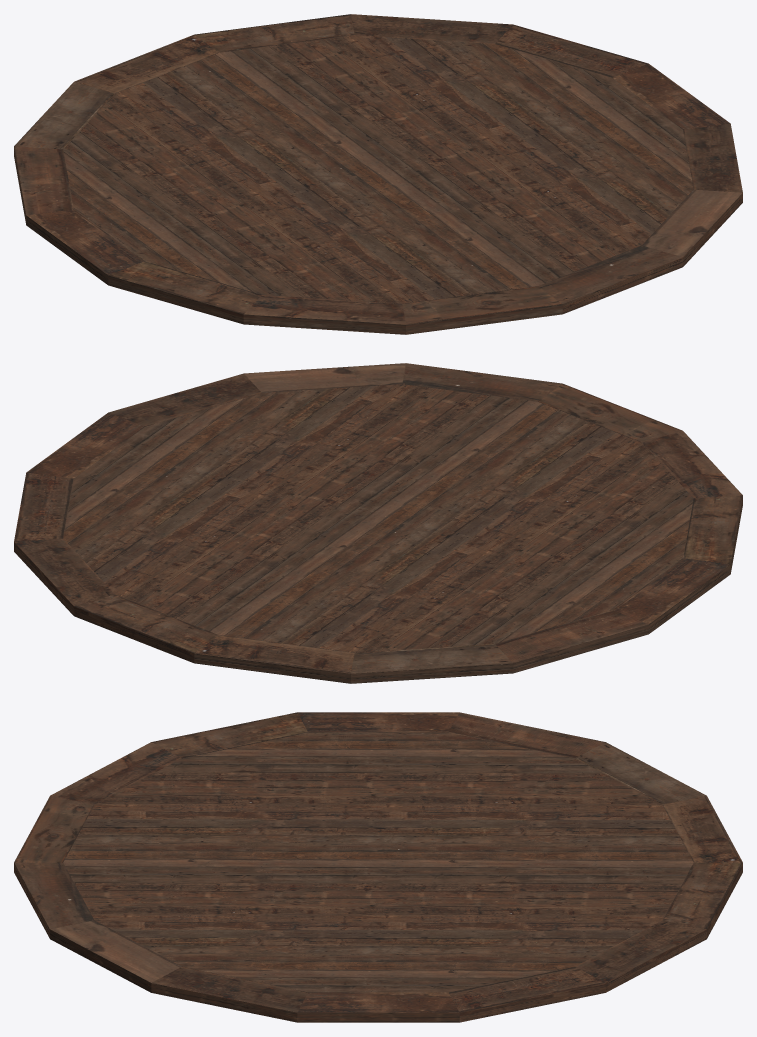
File: StageTop.fbx
The picture shows the model from 3 angles, top to bottom: view 1: azimuth 30°, elevation 25°; view 2: azimuth 150°, elevation 25°; view 3: azimuth 270°, elevation 25°; orthographic projection.
Parts seen in each view (by area): view 1: Cylinder; view 2: Cylinder; view 3: Cylinder.
Part boxes in pixels (x1=…): Cylinder: x1=14, y1=14, x2=742, y2=334; Cylinder: x1=14, y1=363, x2=742, y2=683; Cylinder: x1=14, y1=712, x2=742, y2=1022.
Bounding box in the file's own units: 975 × 15 × 1000.
